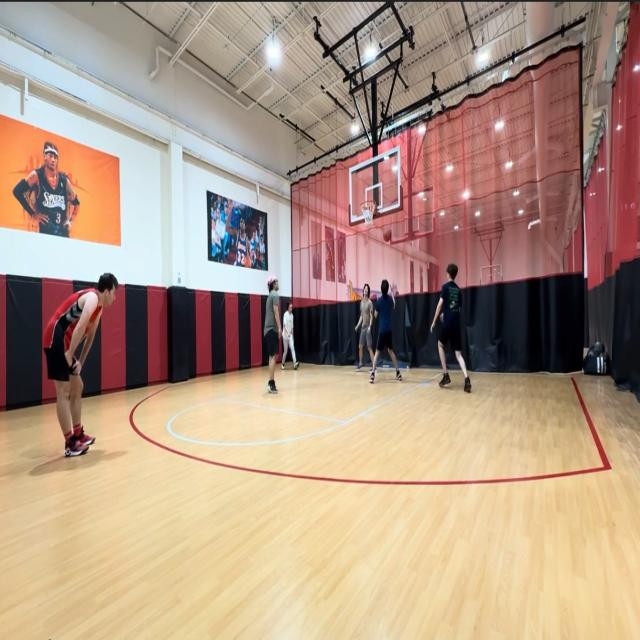Basketball: (383, 228, 392, 242)
Basketball Rim: (360, 199, 376, 226)
